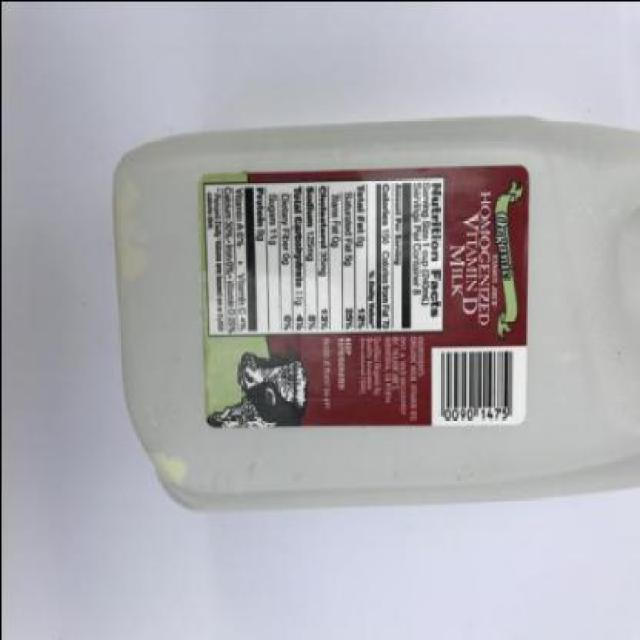PLASTIC: (110, 116, 638, 512)
